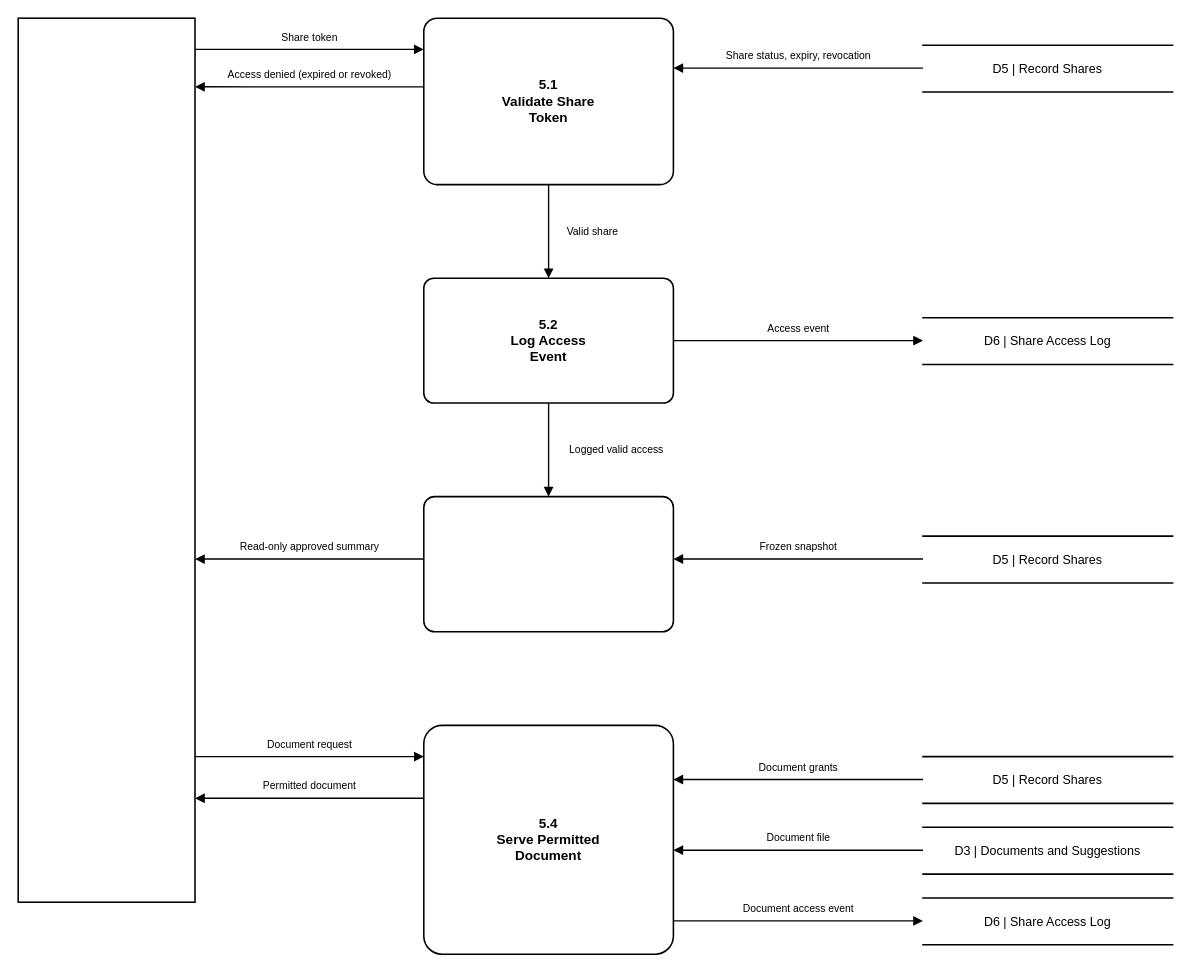
Image size: 1192x973. Some labels were removed from this diagram. Each missing label, with the box of its shape:
5.3 Return Approved Summary: (423, 495, 674, 632)
Clinician: (17, 17, 195, 903)
